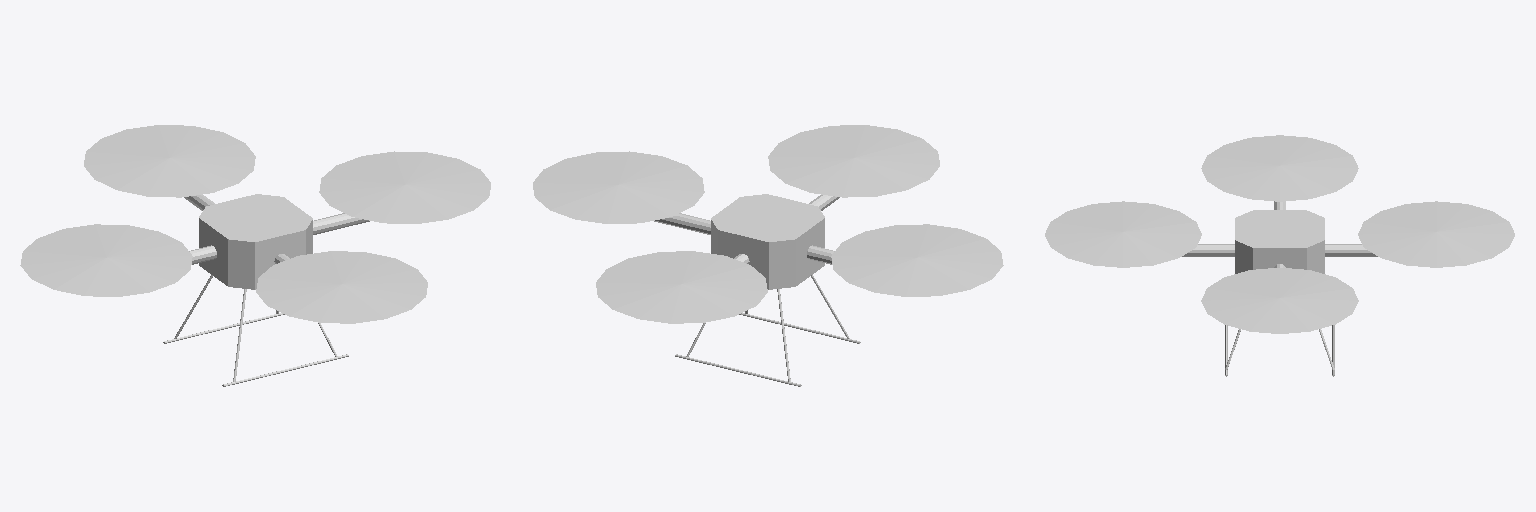
The robot description file, URDF, robot "quadrotor":
<?xml version="1.0" ?>

<!-- adapted from [author], [author], [author], 
"Trajectory Generation and Control for Precise Aggressive Maneuvers with Quadrotors" -->

<robot name="quadrotor">
  <link name="base">
    <visual>
      <origin rpy="0 0 0" xyz="0 0 0"/>
      <geometry>
        <mesh filename="package://xpp_quadrotor_description/meshes/quadrotor_base.dae" scale=".1 .1 .1"/>
      </geometry>
    </visual>   
  </link>

</robot>

--- What the picture shows (computed from the rendered views, not written in the file) ---
The picture shows the robot from 3 angles, left to right: view 1: azimuth 30°, elevation 25°; view 2: azimuth 150°, elevation 25°; view 3: azimuth 270°, elevation 25°; orthographic projection.
Model quadrotor with 1 links and 0 joints (none), rooted at base, posed all joints at 0.
Links seen in each view (by area): view 1: base; view 2: base; view 3: base.
Boxes of the visible links, x1,y1,x2,y2 form: base: [20, 125, 490, 386]; base: [533, 125, 1003, 386]; base: [1045, 135, 1514, 376].
Bounding box of the posed robot: 0.5924 × 0.5924 × 0.1666 m (x, y, z).
1 mesh visuals loaded from 1 distinct referenced files (1 Collada DAE).